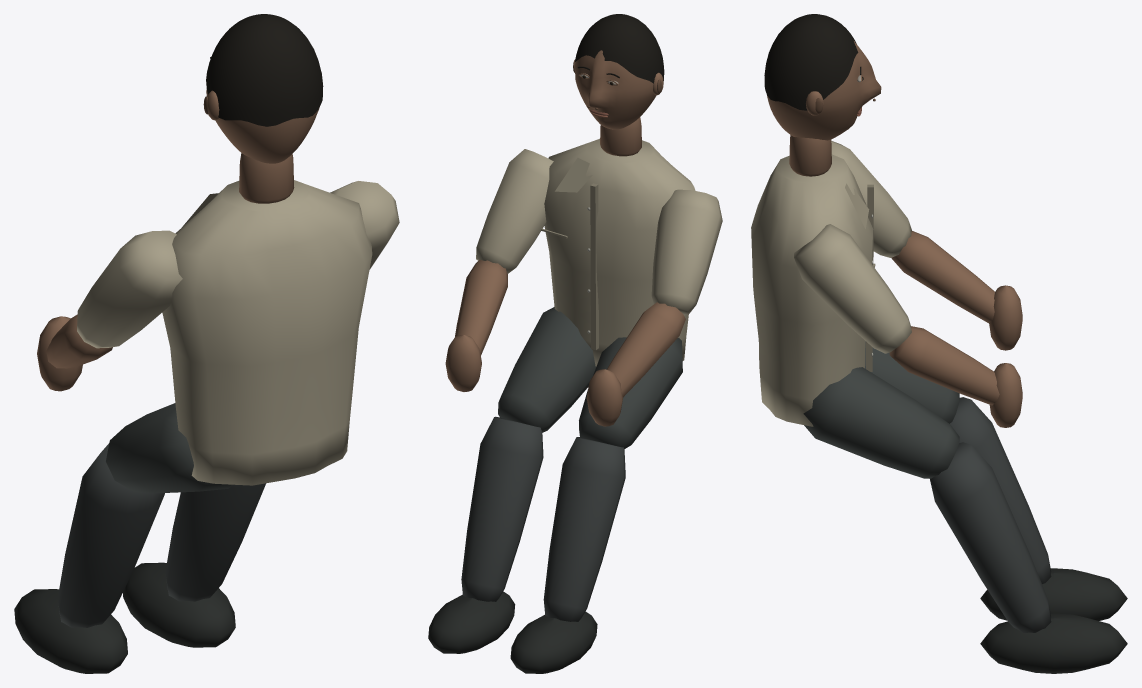
Rendered from passenger_seated_phone.glb.
3 renders of one model, left to right at view 1: azimuth 30°, elevation 25°; view 2: azimuth 150°, elevation 25°; view 3: azimuth 270°, elevation 25°, orthographic. The views are drawn at different scales.
Visible parts, largest first — view 1: passenger_seated_phone; view 2: passenger_seated_phone; view 3: passenger_seated_phone.
Part boxes in pixels (x1,y1,x2,y2): passenger_seated_phone: (14,14,399,673); passenger_seated_phone: (428,14,722,673); passenger_seated_phone: (751,14,1127,673).
Size of the model in its own units: 0.5566 by 1.36 by 0.74.
